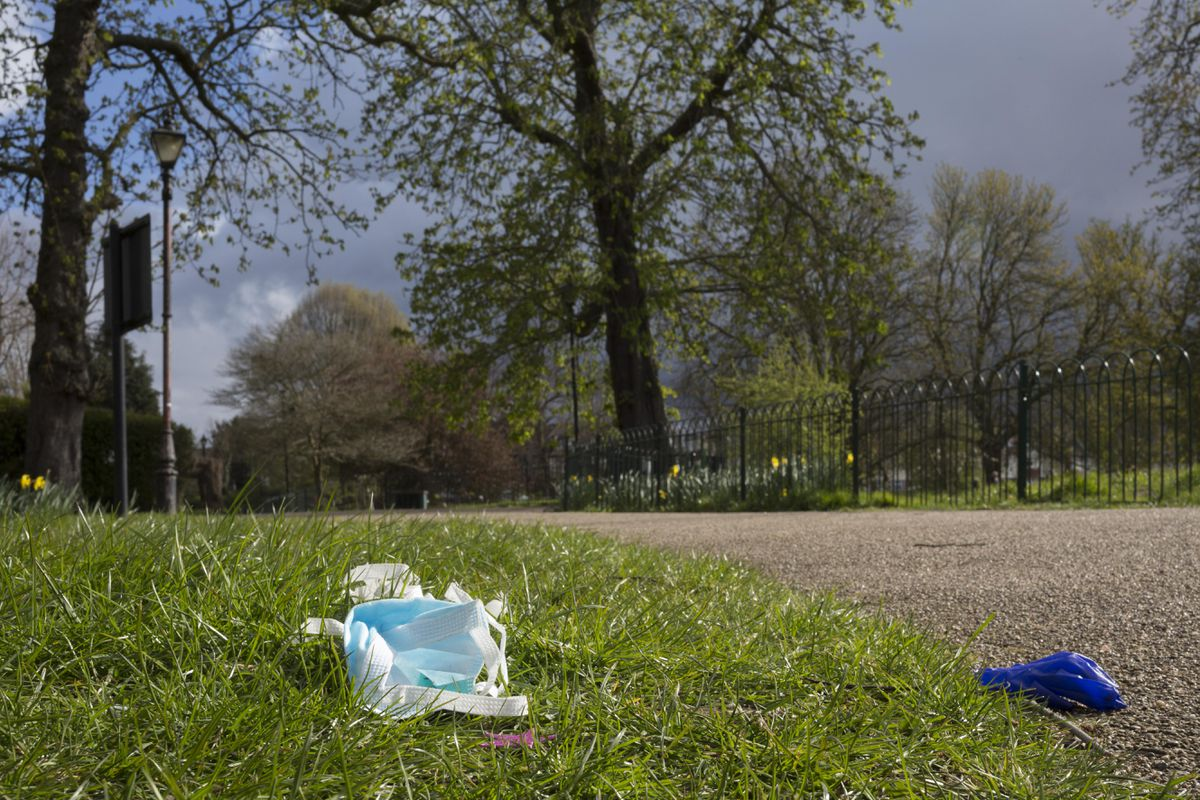plastic_bag: (965, 642, 1137, 735)
